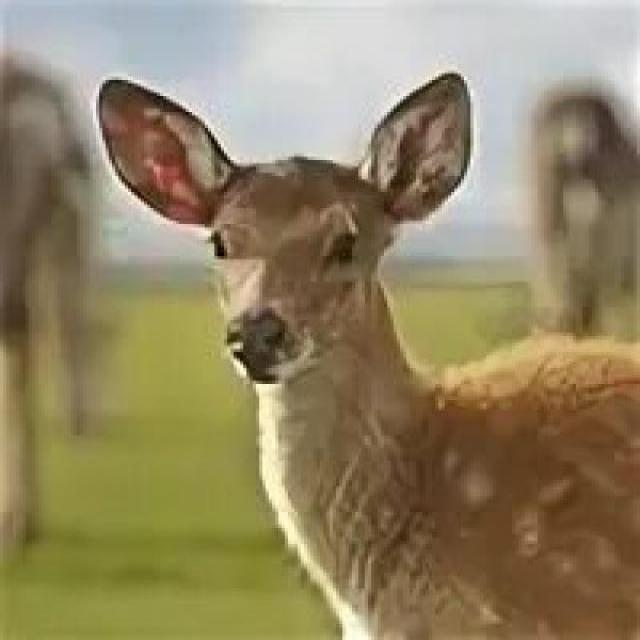deer: (106, 49, 640, 640)
